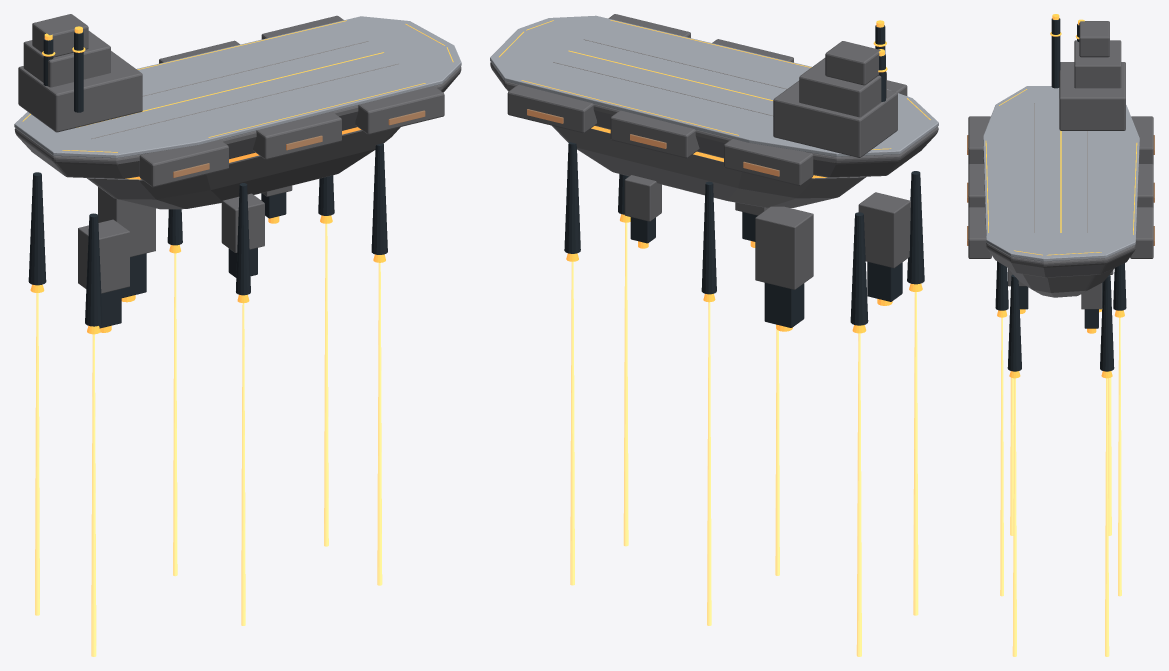
Rendered from inferno-ozone-base-v3-lod1.glb.
The picture shows the model from 3 angles, left to right: view 1: azimuth 30°, elevation 25°; view 2: azimuth 150°, elevation 25°; view 3: azimuth 270°, elevation 25°; orthographic projection. The views are drawn at different scales.
Visible parts, largest first — view 1: inferno_ozone_base__lod1__Inferno hull plating far, inferno_ozone_base__lod1__Inferno deck surface far, inferno_ozone_base__lod1__Inferno structural frame far, inferno_ozone_base__lod1__Inferno lift beam far, inferno_ozone_base__lod1__Inferno emissive guidance far, inferno_ozone_base__lod1__Inferno recessed glazing far, inferno_ozone_base__lod1__Inferno light armor far; view 2: inferno_ozone_base__lod1__Inferno hull plating far, inferno_ozone_base__lod1__Inferno deck surface far, inferno_ozone_base__lod1__Inferno structural frame far, inferno_ozone_base__lod1__Inferno lift beam far, inferno_ozone_base__lod1__Inferno emissive guidance far, inferno_ozone_base__lod1__Inferno recessed glazing far; view 3: inferno_ozone_base__lod1__Inferno deck surface far, inferno_ozone_base__lod1__Inferno hull plating far, inferno_ozone_base__lod1__Inferno lift beam far, inferno_ozone_base__lod1__Inferno structural frame far, inferno_ozone_base__lod1__Inferno emissive guidance far.
Part boxes in pixels (x1=…): inferno_ozone_base__lod1__Inferno hull plating far: x1=14, y1=14, x2=461, y2=293; inferno_ozone_base__lod1__Inferno deck surface far: x1=14, y1=16, x2=461, y2=158; inferno_ozone_base__lod1__Inferno structural frame far: x1=28, y1=31, x2=387, y2=328; inferno_ozone_base__lod1__Inferno lift beam far: x1=35, y1=223, x2=382, y2=656; inferno_ozone_base__lod1__Inferno emissive guidance far: x1=22, y1=20, x2=453, y2=334; inferno_ozone_base__lod1__Inferno recessed glazing far: x1=173, y1=110, x2=425, y2=177; inferno_ozone_base__lod1__Inferno light armor far: x1=91, y1=41, x2=398, y2=138; inferno_ozone_base__lod1__Inferno hull plating far: x1=490, y1=14, x2=938, y2=289; inferno_ozone_base__lod1__Inferno deck surface far: x1=490, y1=15, x2=938, y2=156; inferno_ozone_base__lod1__Inferno structural frame far: x1=564, y1=25, x2=924, y2=327; inferno_ozone_base__lod1__Inferno lift beam far: x1=570, y1=222, x2=918, y2=656; inferno_ozone_base__lod1__Inferno emissive guidance far: x1=499, y1=20, x2=930, y2=333; inferno_ozone_base__lod1__Inferno recessed glazing far: x1=527, y1=109, x2=779, y2=176; inferno_ozone_base__lod1__Inferno deck surface far: x1=983, y1=86, x2=1139, y2=261; inferno_ozone_base__lod1__Inferno hull plating far: x1=968, y1=21, x2=1153, y2=309; inferno_ozone_base__lod1__Inferno lift beam far: x1=1000, y1=275, x2=1121, y2=656; inferno_ozone_base__lod1__Inferno structural frame far: x1=995, y1=18, x2=1126, y2=371; inferno_ozone_base__lod1__Inferno emissive guidance far: x1=985, y1=14, x2=1137, y2=378.
Size of the model in its own units: 800 by 1129 by 367.
